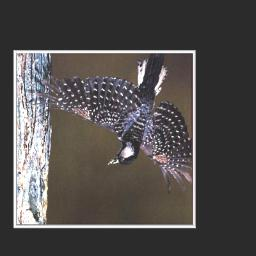Woodpecker: (32, 56, 193, 190)
